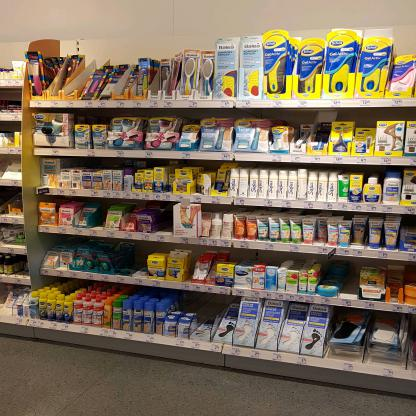Void: (325, 256, 358, 289), (181, 293, 222, 318), (117, 242, 144, 270), (158, 204, 172, 234)
